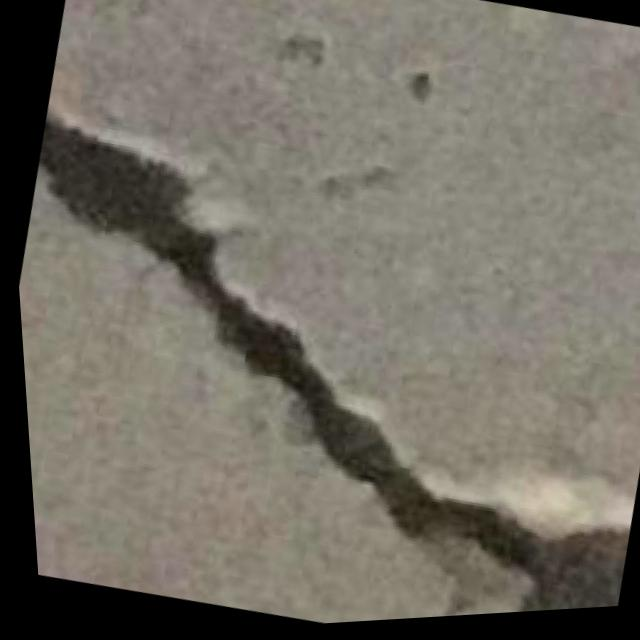Crack: (6, 84, 640, 640)
